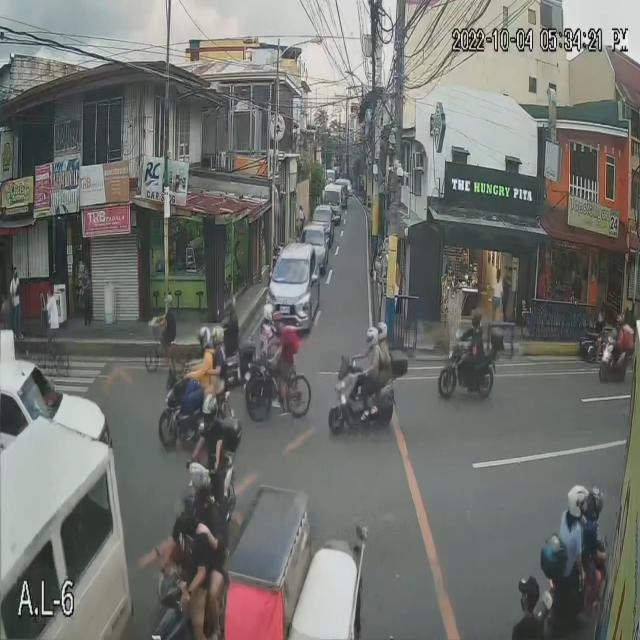Full-Faced: (190, 456, 213, 504), (175, 485, 196, 533), (200, 392, 222, 430), (585, 482, 603, 525), (206, 314, 227, 350), (376, 313, 390, 346), (468, 307, 484, 333), (366, 329, 379, 350)
Half-Faced: (566, 476, 588, 514), (195, 320, 210, 349)
